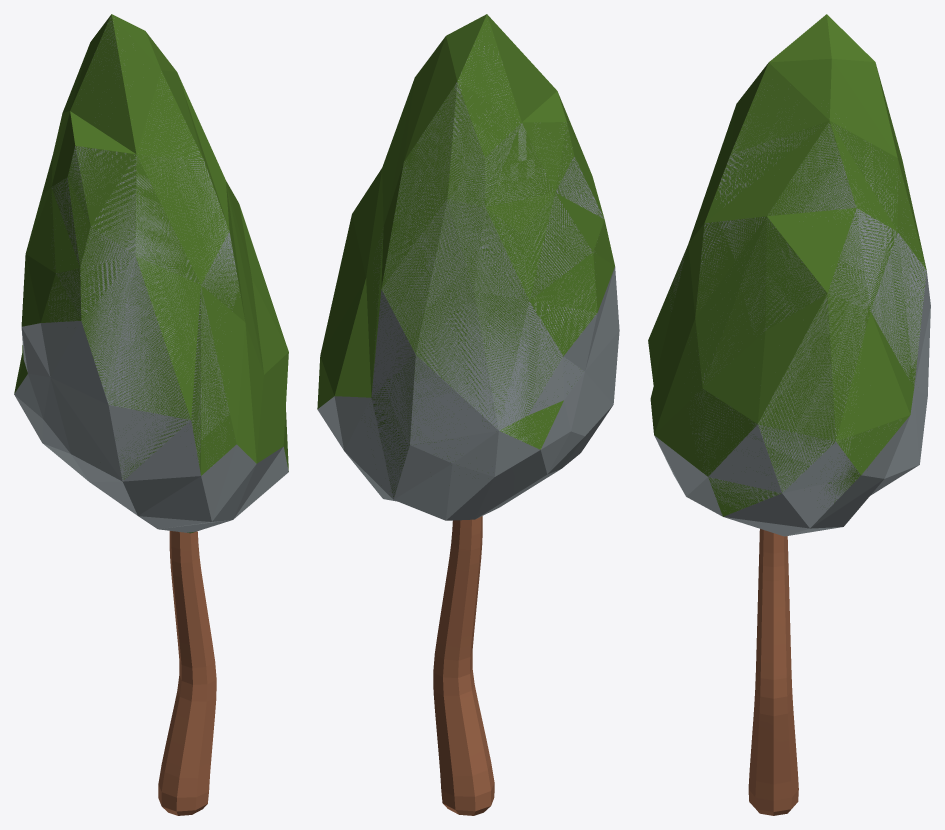
The model's file is _tree2.glb.
The picture shows the model from 3 angles, left to right: view 1: azimuth 30°, elevation 25°; view 2: azimuth 150°, elevation 25°; view 3: azimuth 270°, elevation 25°; orthographic projection. The views are drawn at different scales.
Parts seen in each view (by area): view 1: tree2; view 2: tree2; view 3: tree2.
Part boxes in pixels (x1,y1,x2,y2): tree2: [14, 14, 288, 815]; tree2: [317, 14, 619, 815]; tree2: [648, 14, 930, 815].
Bounding box in the file's own units: 0.6229 × 1.94 × 0.6405.
2 materials, 2 textured.
